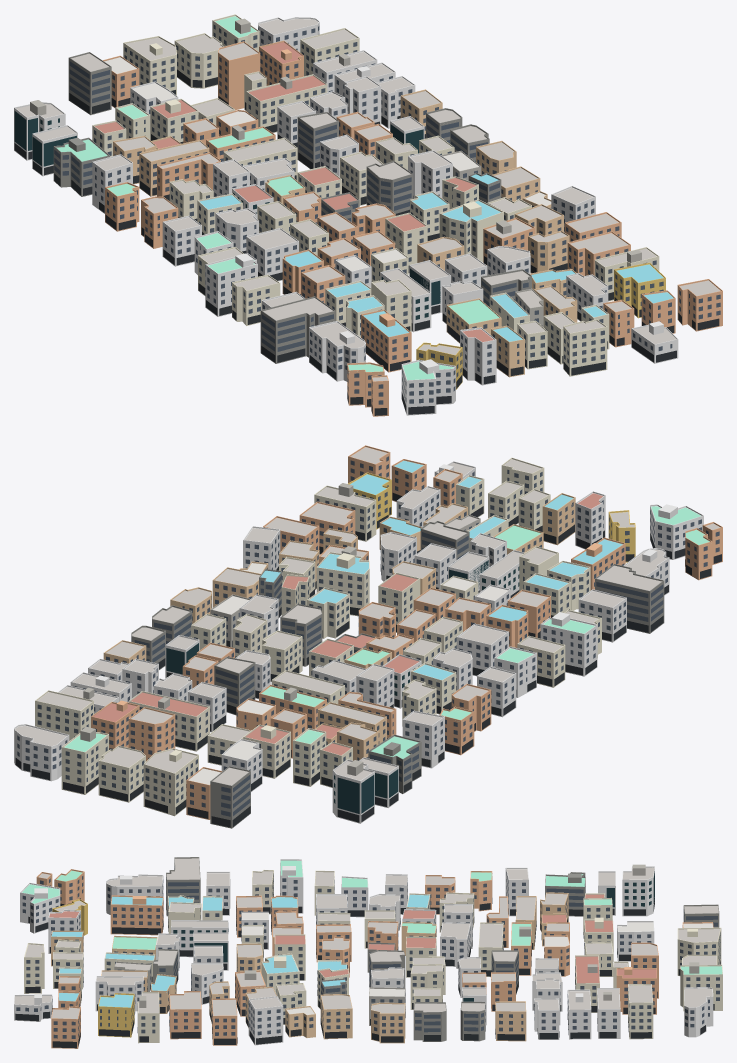
The picture shows the model from 3 angles, top to bottom: view 1: azimuth 30°, elevation 25°; view 2: azimuth 150°, elevation 25°; view 3: azimuth 270°, elevation 25°; orthographic projection. The views are drawn at different scales.
Parts seen in each view (by area): view 1: a3_e; view 2: a3_e; view 3: a3_e.
Part boxes in pixels (x1,y1,x2,y2): a3_e: [14, 14, 722, 416]; a3_e: [14, 445, 722, 828]; a3_e: [14, 857, 722, 1048].
Size of the model in its own units: 148 by 19.21 by 286.
